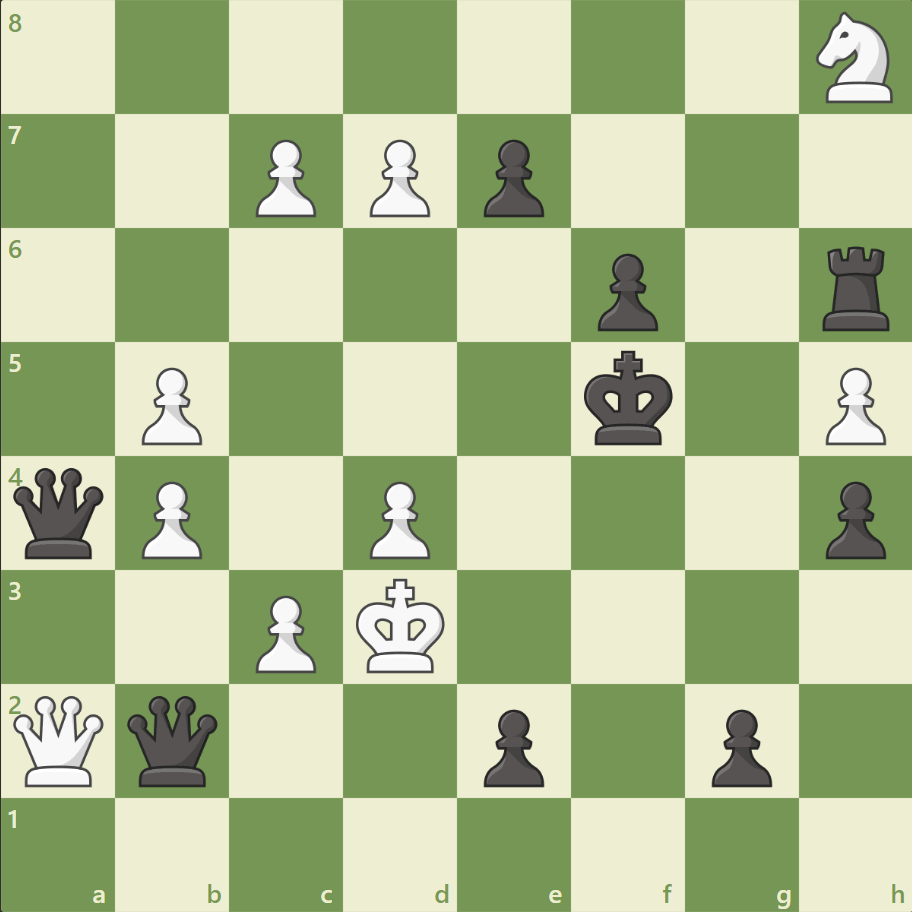K: (351, 571, 451, 679)
N: (806, 7, 903, 110)
P: (247, 132, 322, 223), (133, 359, 208, 450), (133, 473, 208, 564), (247, 586, 322, 677), (361, 132, 435, 223), (815, 359, 889, 450), (361, 473, 435, 564)
Q: (10, 690, 109, 789)
k: (579, 344, 679, 452)
p: (474, 132, 549, 223), (474, 700, 549, 791), (701, 700, 776, 791), (588, 246, 662, 337), (815, 473, 889, 564)
q: (10, 463, 109, 562), (124, 690, 223, 789)
r: (814, 239, 897, 336)
